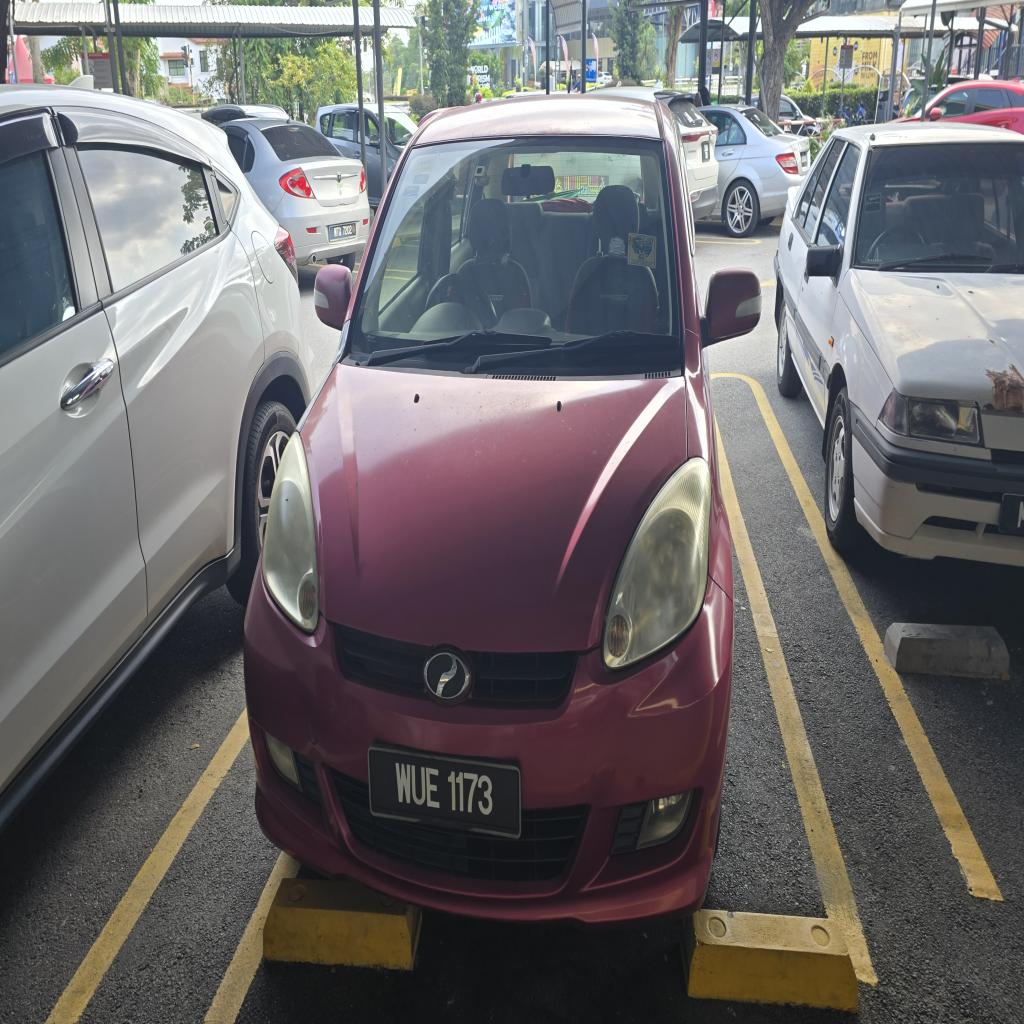car: (245, 93, 760, 923)
car plate: (368, 747, 520, 838)
